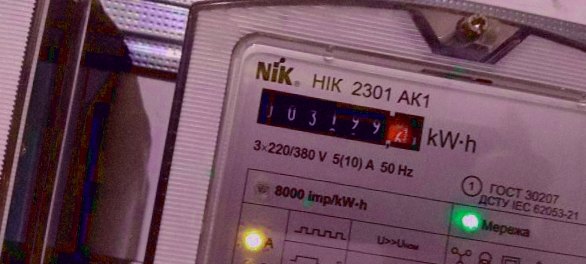0: (283, 100, 298, 122), (261, 97, 275, 120)
1: (327, 106, 340, 126)
3: (305, 106, 318, 127)
6: (392, 127, 404, 144)
9: (368, 115, 382, 135), (348, 110, 361, 131)
screen: (247, 82, 435, 160)
